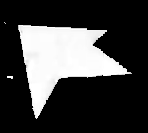Plane: (14, 22, 136, 128)
